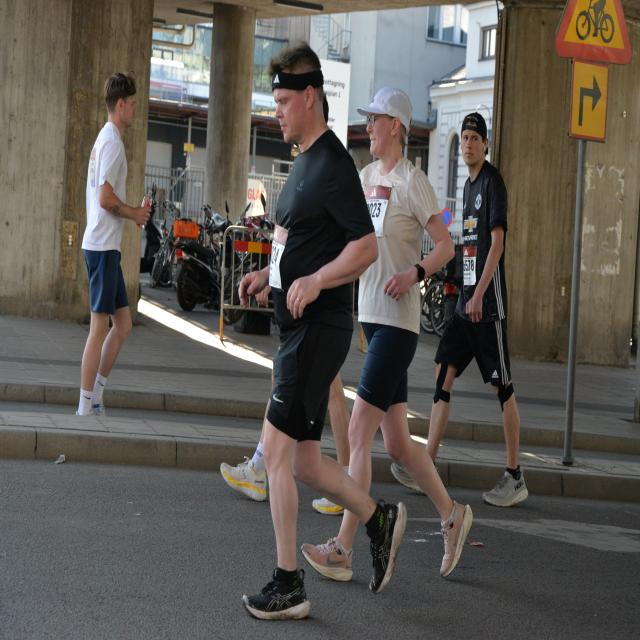runner-detect: (245, 50, 401, 635), (348, 76, 474, 602), (441, 97, 537, 516)
